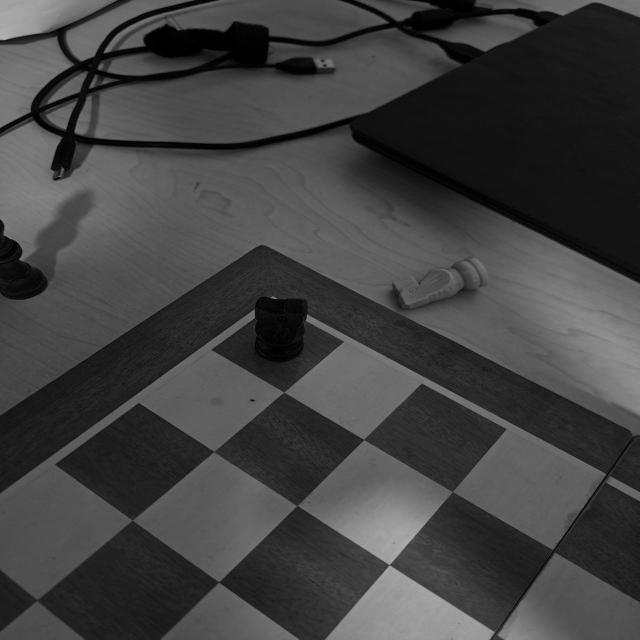chess-table-corners: (231, 286, 326, 336)
